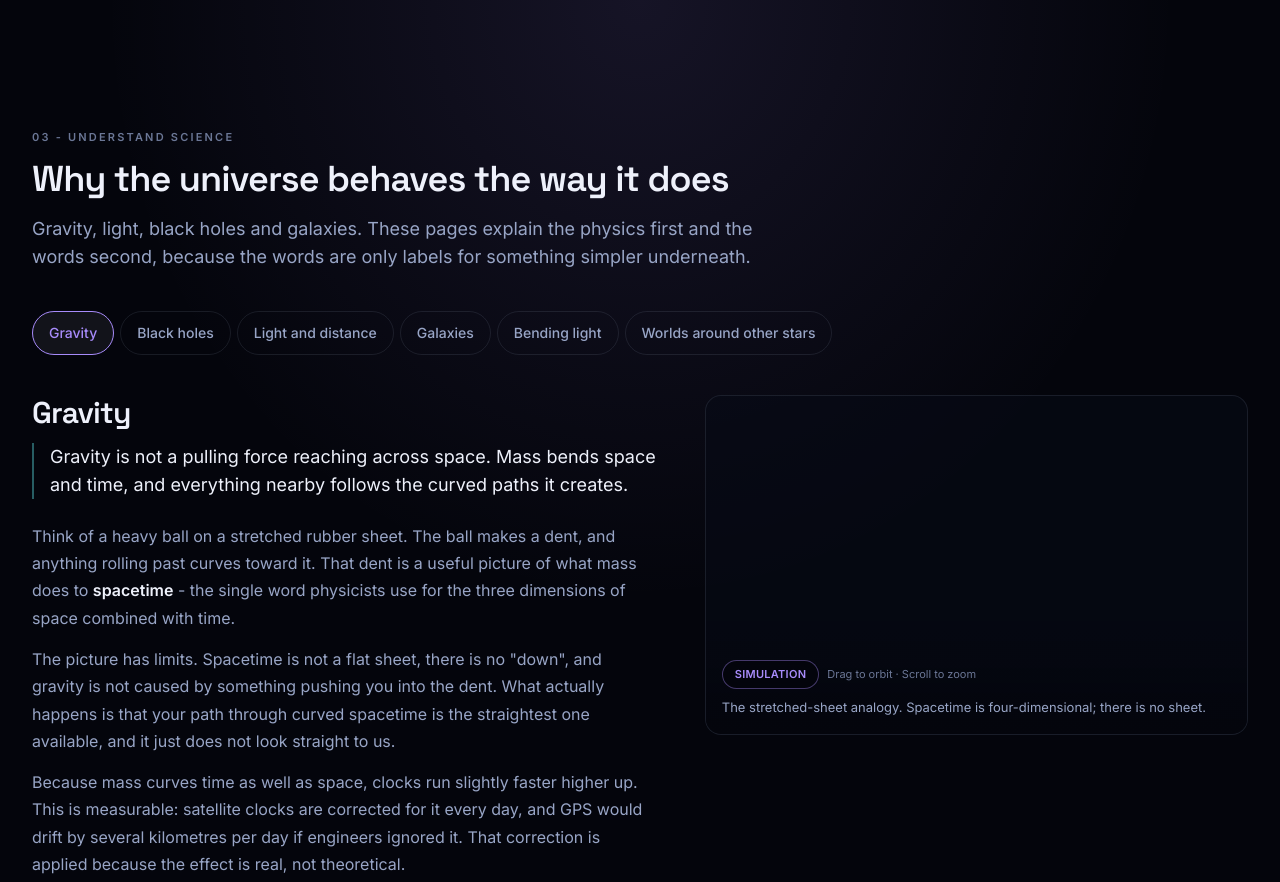
Test case: section 03 - understand science › switches to black holes and labels the disc as a simulation
Click the tab "Black holes" at x=175, y=333, box [120,311,231,355]
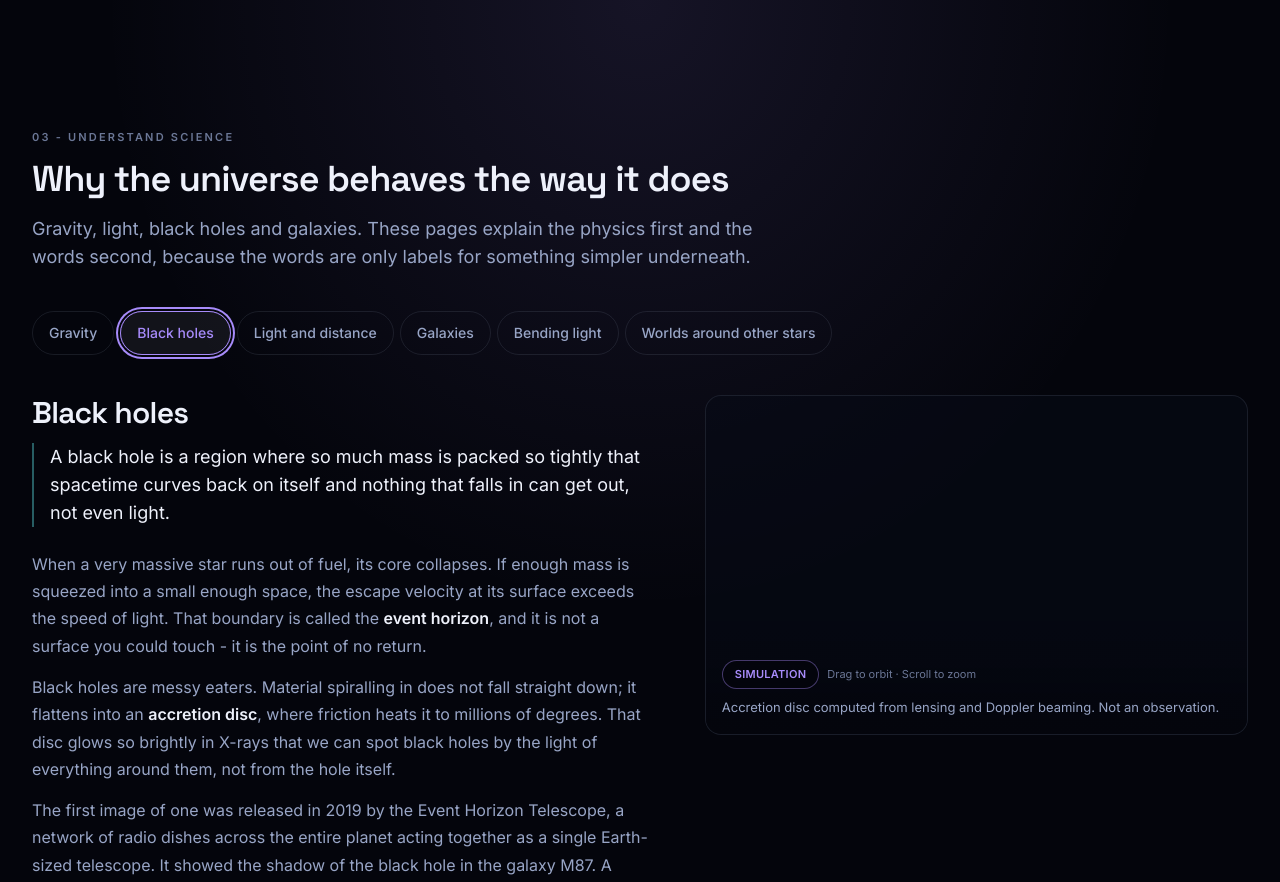
Check: the heading "Black holes" is shown, box [32,393,188,432]
Check: the text "computed from lensing" is shown, box [722,699,1219,715]
